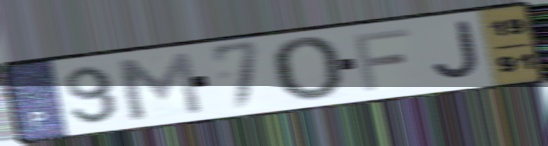7: (208, 38, 263, 116)
9: (62, 63, 122, 126)
F: (350, 26, 413, 94)
J: (430, 18, 485, 83)
M: (111, 49, 207, 122)
O: (268, 35, 346, 104)
